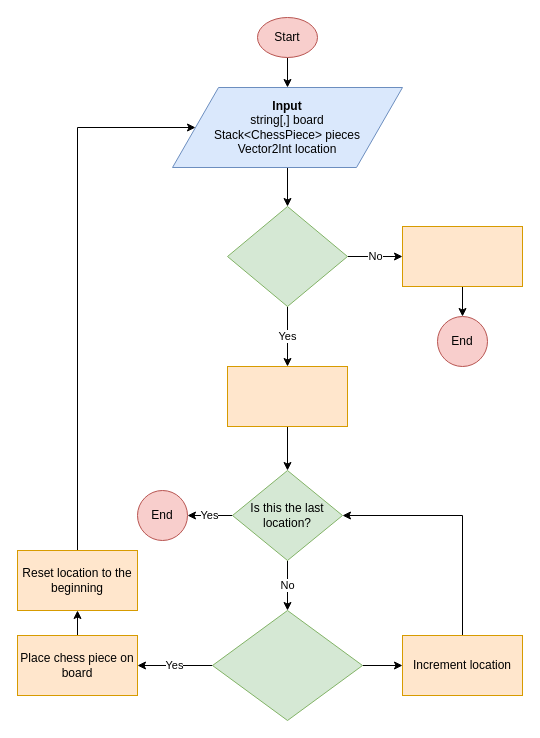
This 540x738 diagram has some shape labels left out. The shapes that lost their labels are listed below. From the top down, each one's centre as x and y in pixels, then its label:
At point (287, 256): "Are there any pieces left?".
At point (462, 256): "Add the board to the results".
At point (287, 396): "Take a chess-piece from the Stack of pieces".
At point (287, 665): "Can the chess-piece safely go in location?".
